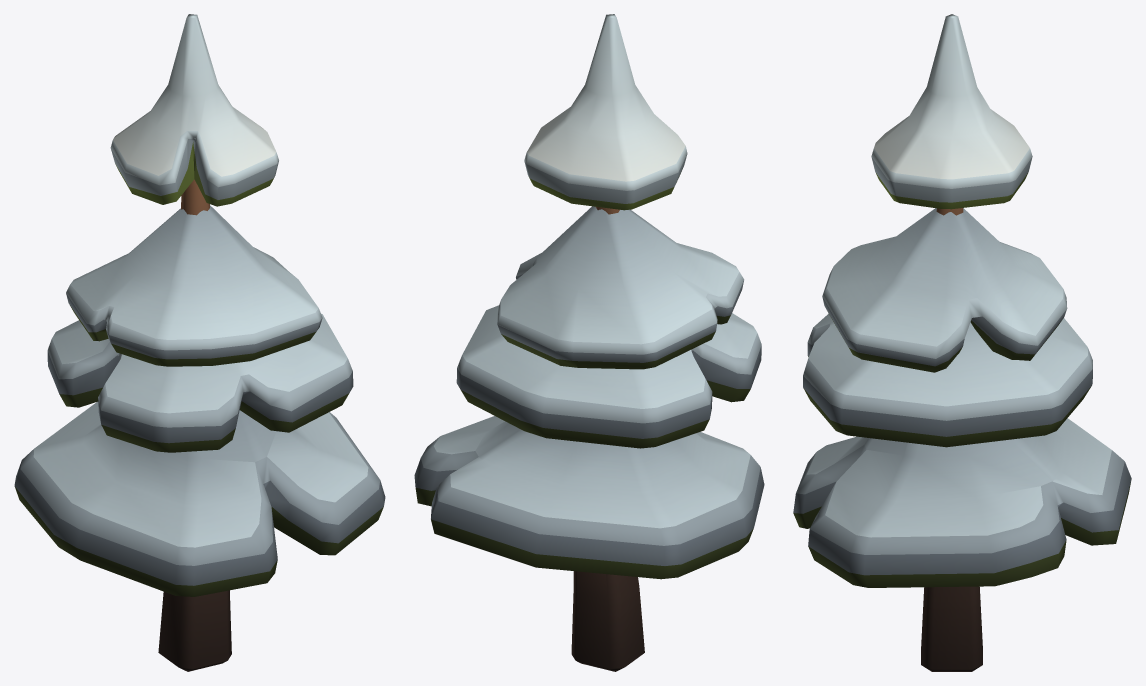
Rendered from pine_tree_col1_08_snow.fbx.
3 renders of one model, left to right at view 1: azimuth 30°, elevation 25°; view 2: azimuth 150°, elevation 25°; view 3: azimuth 270°, elevation 25°, orthographic.
Visible parts, largest first — view 1: tree_pine_col1_08_snow; view 2: tree_pine_col1_08_snow; view 3: tree_pine_col1_08_snow.
Part boxes in pixels (x1=…): tree_pine_col1_08_snow: x1=14, y1=14, x2=385, y2=671; tree_pine_col1_08_snow: x1=414, y1=14, x2=764, y2=671; tree_pine_col1_08_snow: x1=793, y1=14, x2=1131, y2=671.
Bounding box in the file's own units: 436 × 879 × 418.
